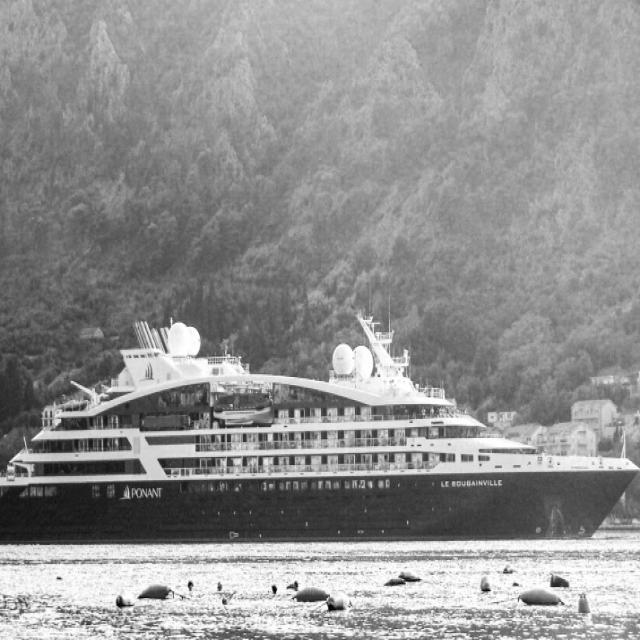cruises: (1, 293, 640, 554)
